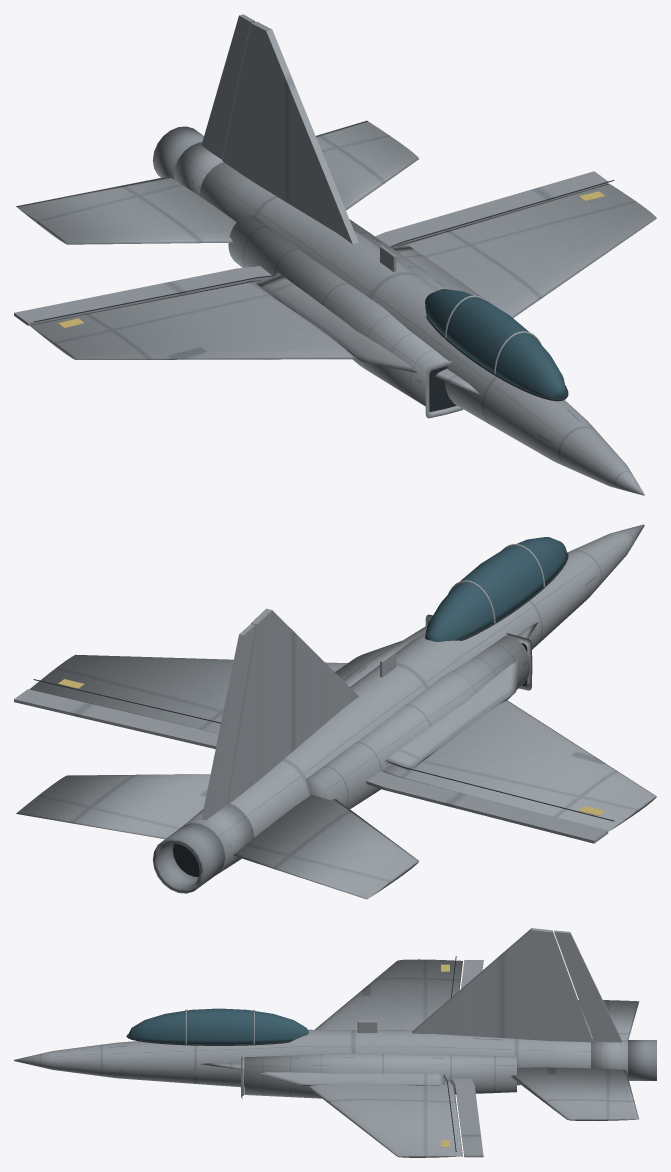
The picture shows the model from 3 angles, top to bottom: view 1: azimuth 30°, elevation 25°; view 2: azimuth 150°, elevation 25°; view 3: azimuth 270°, elevation 25°; orthographic projection. The views are drawn at different scales.
Visible parts, largest first — view 1: airframe_static, tailplane_L, canopy, tailplane_R, elevon_L, elevon_R, rudder_1; view 2: airframe_static, tailplane_L, tailplane_R, canopy, elevon_L, rudder_1, elevon_R; view 3: airframe_static, canopy, tailplane_R, rudder_1, elevon_R, tailplane_L, elevon_L.
Part boxes in pixels (<box>): airframe_static: <box>29,21,656,495</box>; tailplane_L: <box>16,176,236,244</box>; canopy: <box>425,289,568,401</box>; tailplane_R: <box>316,120,418,210</box>; elevon_L: <box>14,266,271,325</box>; elevon_R: <box>375,171,608,246</box>; rudder_1: <box>201,14,255,159</box>; airframe_static: <box>29,524,656,893</box>; tailplane_L: <box>233,794,418,899</box>; tailplane_R: <box>16,774,210,839</box>; canopy: <box>425,537,568,641</box>; elevon_L: <box>366,771,608,843</box>; rudder_1: <box>201,624,255,820</box>; elevon_R: <box>14,689,218,748</box>; airframe_static: <box>14,928,656,1157</box>; canopy: <box>126,1008,308,1045</box>; tailplane_R: <box>510,1067,639,1120</box>; rudder_1: <box>554,930,622,1042</box>; elevon_R: <box>452,1078,483,1157</box>; tailplane_L: <box>578,1000,639,1039</box>; elevon_L: <box>461,960,483,988</box>.
Bounding box in the file's own units: 9.45 × 3.6 × 13.13.
Materials: 5 (1 with a texture image).
